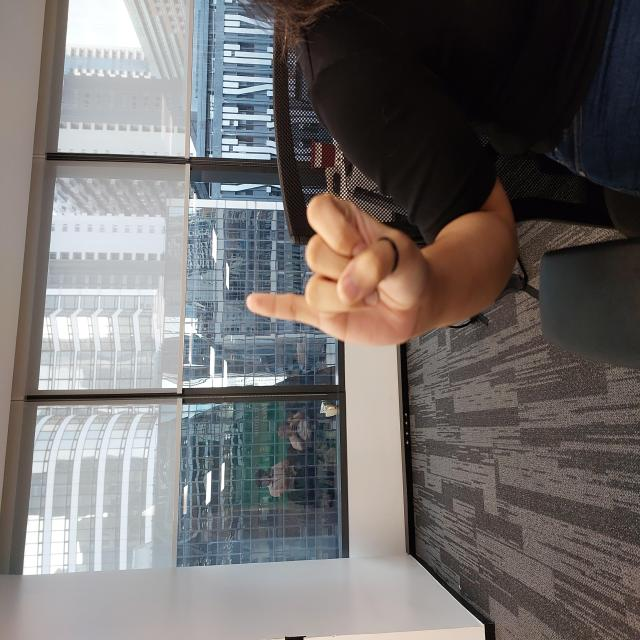I: (291, 244, 449, 430)
